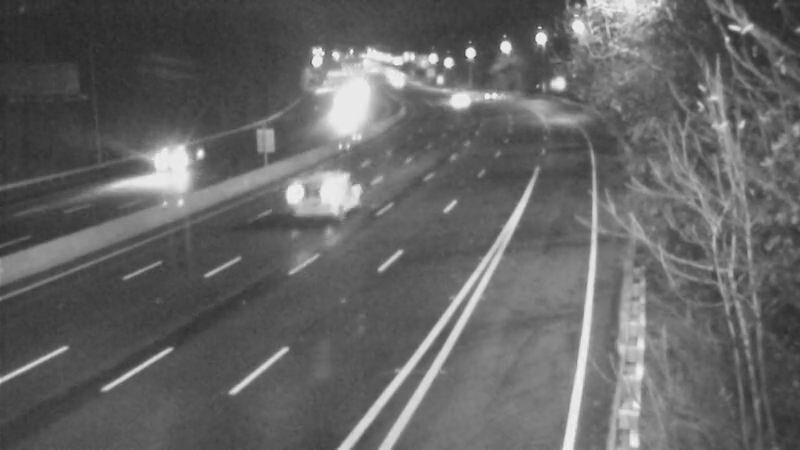vehicle: (273, 153, 353, 233), (129, 129, 209, 209), (462, 69, 512, 119), (432, 74, 482, 124)
